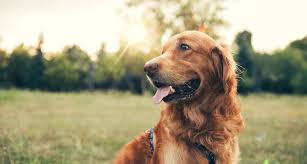Bulldog: (114, 24, 249, 164)
